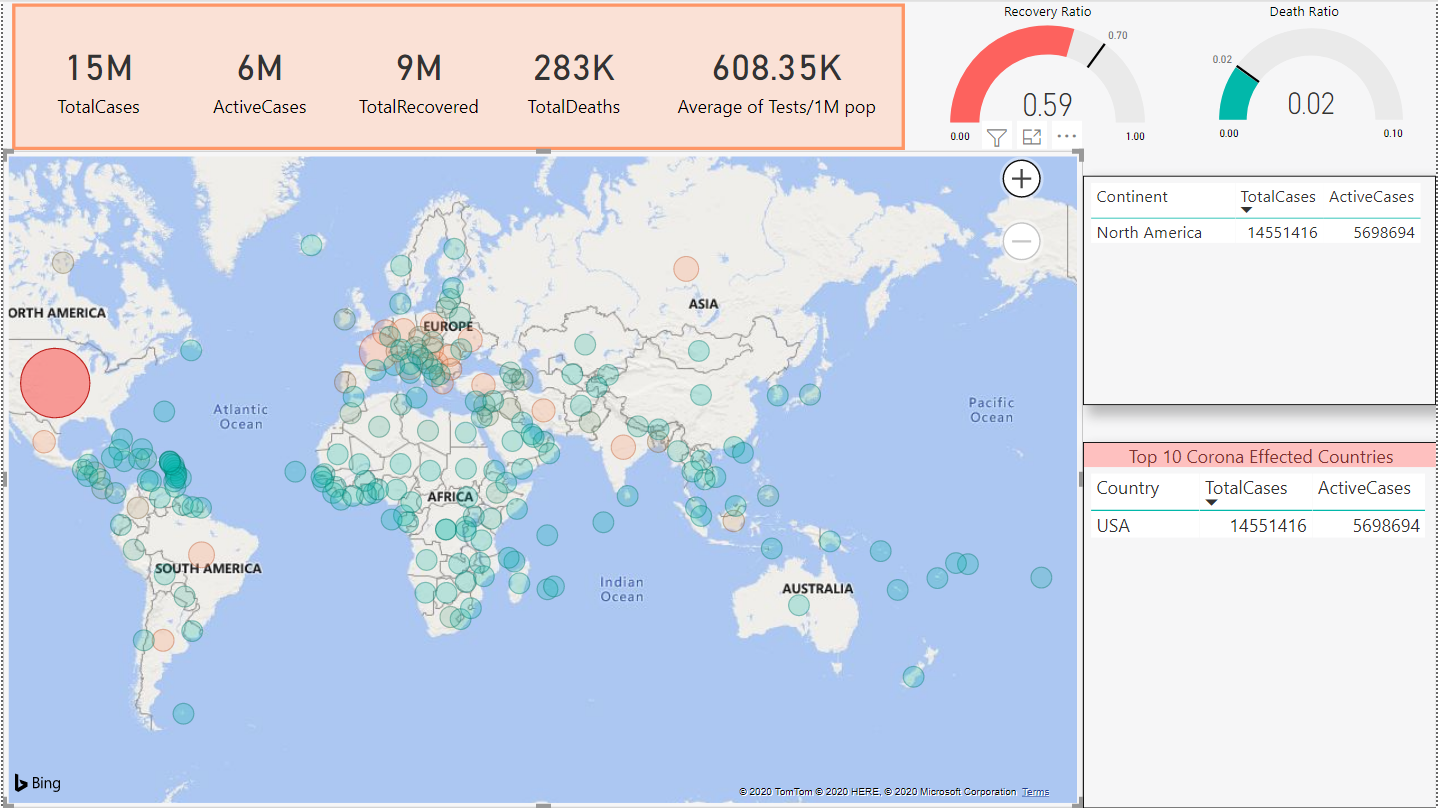

This screenshot's page, from the dashboard's own definition file:
{"tool":"powerbi","page":{"name":"Page 1","canvas":[1280,720],"ordinal":0},"visuals":[{"type":"basicShape","box":[0,0,813.3,133.3],"z":0},{"type":"map","fields":{"Category":["Corona_World_Data.Country,Other"],"Size":["Sum(Corona_World_Data.ActiveCases)"]},"box":[0,132.8,964.5,587.2],"z":1000},{"type":"gauge","fields":{"Y":["Corona_World_Data.Death Ratio"]},"box":[1069.1,0,185.5,133.3],"z":2000},{"type":"gauge","fields":{"Y":["Corona_World_Data.Recovery Ratio"]},"box":[837.6,0,191.5,133.3],"z":3000},{"type":"card","fields":{"Values":["Sum(Corona_World_Data.TotalCases)"]},"box":[15.8,0,139.4,133.3],"z":4000},{"type":"card","fields":{"Values":["Sum(Corona_World_Data.TotalRecovered)"]},"box":[303,0,138.2,133.3],"z":5000},{"type":"card","fields":{"Values":["Sum(Corona_World_Data.ActiveCases)"]},"box":[155.2,0,147.9,133.3],"z":6000},{"type":"card","fields":{"Values":["Sum(Corona_World_Data.TotalDeaths)"]},"box":[441.2,0,138.2,133.3],"z":7000},{"type":"card","fields":{"Values":["Avg(Corona_World_Data.Tests/1M pop)"]},"box":[579.4,0,223,133.3],"z":8000},{"type":"tableEx","fields":{"Values":["Corona_World_Data.Continent","Sum(Corona_World_Data.TotalCases)","Sum(Corona_World_Data.ActiveCases)"]},"box":[964.8,155.2,315.2,204.8],"z":9000},{"type":"tableEx","title":"Top 10 Corona Effected Countries","fields":{"Values":["Corona_World_Data.Country,Other","Sum(Corona_World_Data.TotalCases)","Sum(Corona_World_Data.ActiveCases)"]},"box":[964.5,392.9,315.9,327.1],"z":10000}]}

Visuals, with their boxes in screenshot pixels (x1, y1, x2, y2), scaled from the page's 1280x720 canvas onto the 1438x808 screenshot:
basicShape: {"left": 0, "top": 0, "right": 914, "bottom": 150}
map - Corona_World_Data.Country,Other x Sum(Corona_World_Data.ActiveCases): {"left": 0, "top": 149, "right": 1084, "bottom": 807}
gauge - Corona_World_Data.Death Ratio: {"left": 1201, "top": 0, "right": 1409, "bottom": 150}
gauge - Corona_World_Data.Recovery Ratio: {"left": 941, "top": 0, "right": 1156, "bottom": 150}
card - Sum(Corona_World_Data.TotalCases): {"left": 18, "top": 0, "right": 174, "bottom": 150}
card - Sum(Corona_World_Data.TotalRecovered): {"left": 340, "top": 0, "right": 496, "bottom": 150}
card - Sum(Corona_World_Data.ActiveCases): {"left": 174, "top": 0, "right": 341, "bottom": 150}
card - Sum(Corona_World_Data.TotalDeaths): {"left": 496, "top": 0, "right": 651, "bottom": 150}
card - Avg(Corona_World_Data.Tests/1M pop): {"left": 651, "top": 0, "right": 901, "bottom": 150}
tableEx - Corona_World_Data.Continent x Sum(Corona_World_Data.TotalCases): {"left": 1084, "top": 174, "right": 1437, "bottom": 404}
"Top 10 Corona Effected Countries" tableEx: {"left": 1084, "top": 441, "right": 1437, "bottom": 807}
